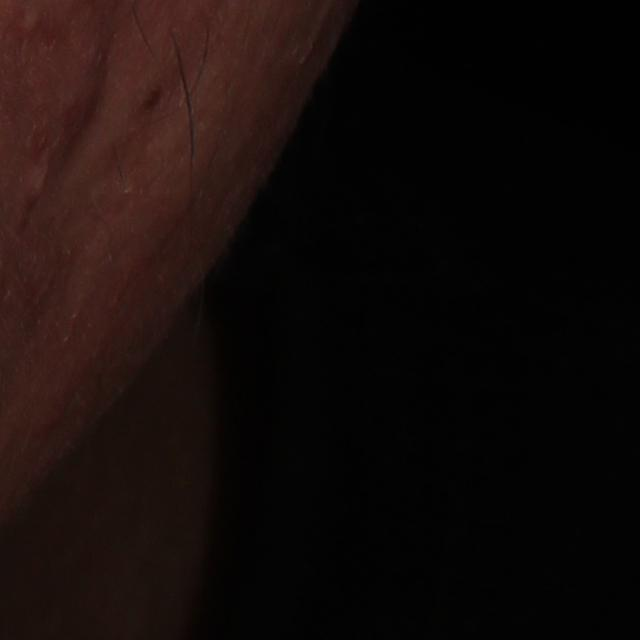nodule: (11, 7, 120, 216)
